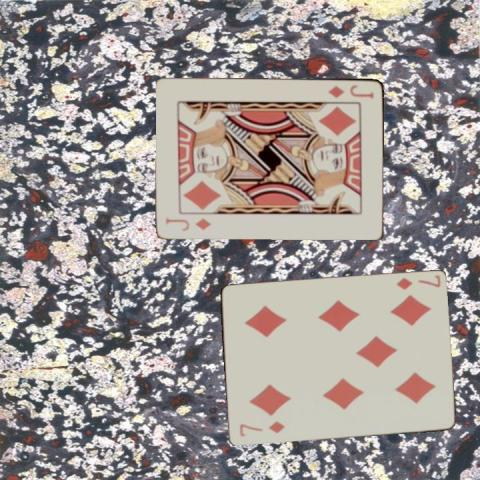7d: (236, 418, 286, 438), (393, 272, 442, 291)
Jd: (325, 81, 375, 100), (163, 213, 213, 232)
